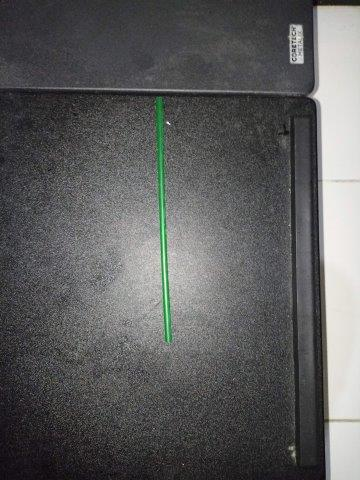sedotan: (156, 96, 172, 342)
